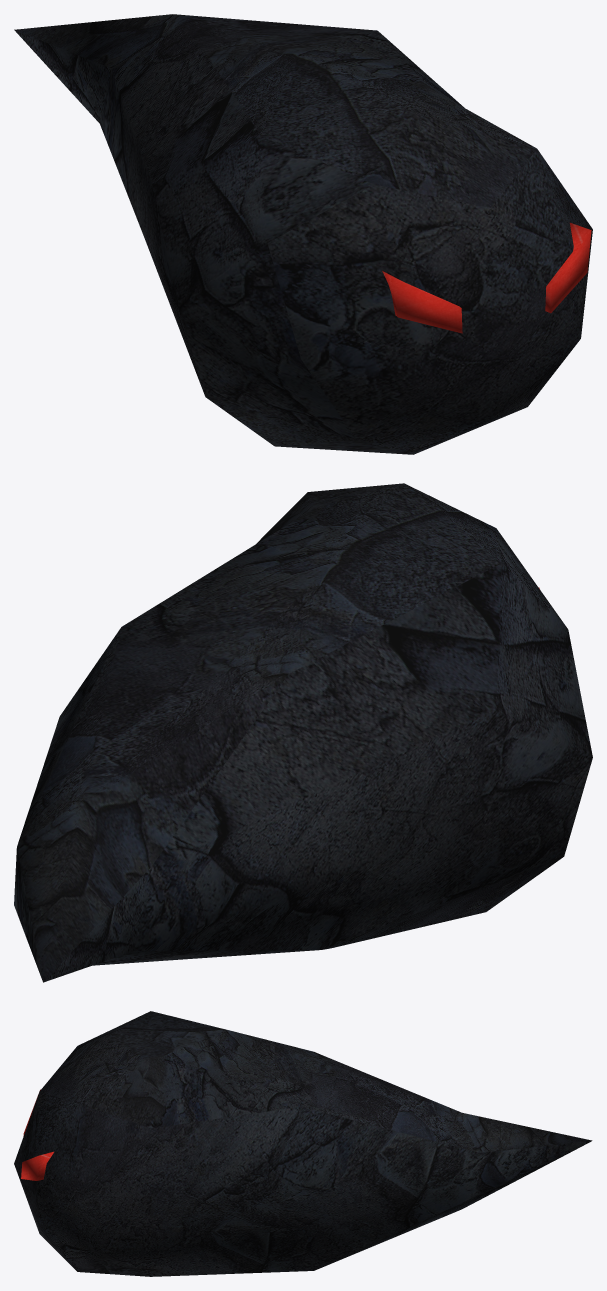
File: eel12.obj
The picture shows the model from 3 angles, top to bottom: view 1: azimuth 30°, elevation 25°; view 2: azimuth 150°, elevation 25°; view 3: azimuth 270°, elevation 25°; orthographic projection. The views are drawn at different scales.
Parts seen in each view (by area): view 1: Icosphere; view 2: Icosphere; view 3: Icosphere.
Boxes of the visible parts, left/top/right/bottom form: Icosphere: left=14, top=14, right=592, bottom=454; Icosphere: left=14, top=483, right=592, bottom=982; Icosphere: left=14, top=1011, right=592, bottom=1276.
Bounding box in the file's own units: 2.12 × 1.9 × 4.33.
2 materials, 2 textured.
